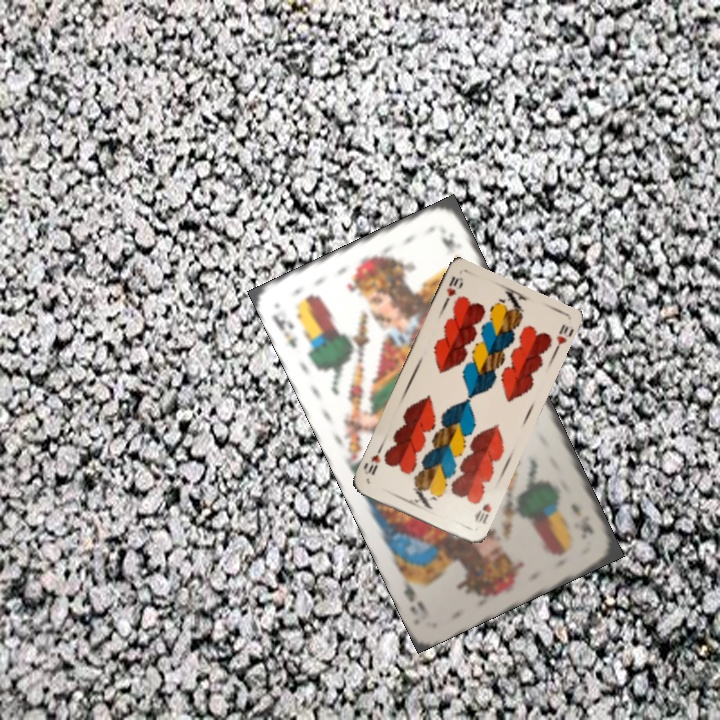EK: (267, 310, 301, 351), (567, 499, 596, 537)
H10: (439, 272, 465, 309), (470, 498, 494, 527)
